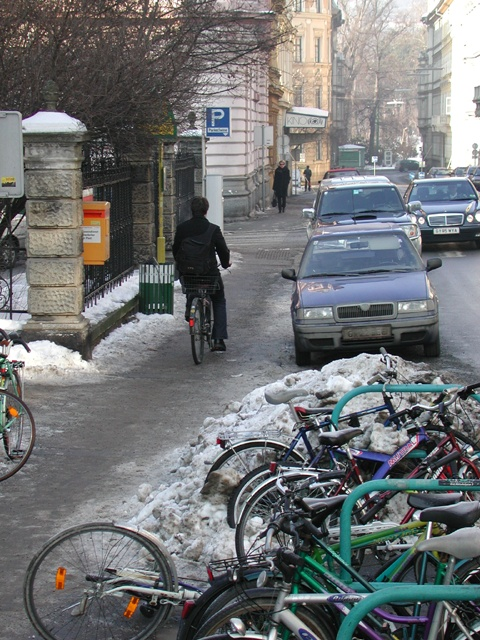person: (175, 192, 231, 356)
